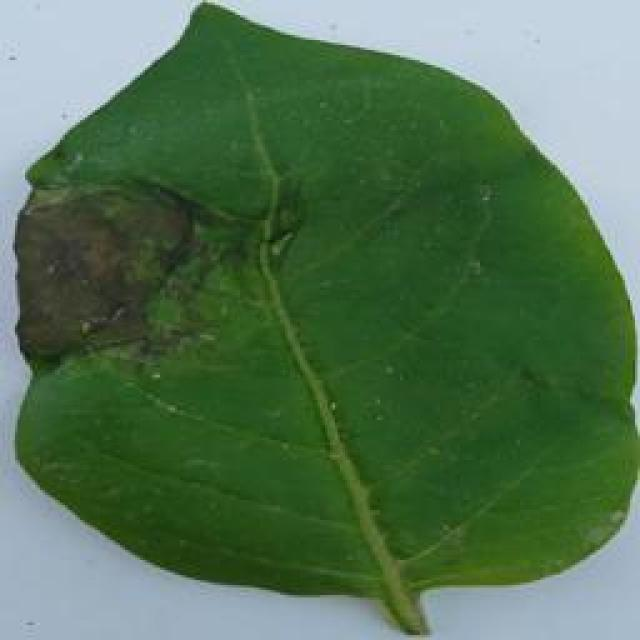Potato_Late_Blight: (16, 19, 626, 600)
